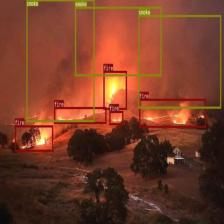fire: (139, 98, 206, 128), (15, 125, 53, 151), (103, 71, 127, 110), (54, 106, 106, 124), (109, 111, 123, 125)
smoke: (26, 0, 94, 121), (138, 14, 221, 108), (75, 6, 161, 76)
